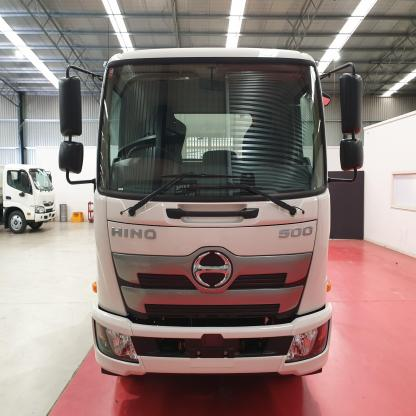dump_truck: (69, 23, 352, 380), (1, 154, 58, 245)
